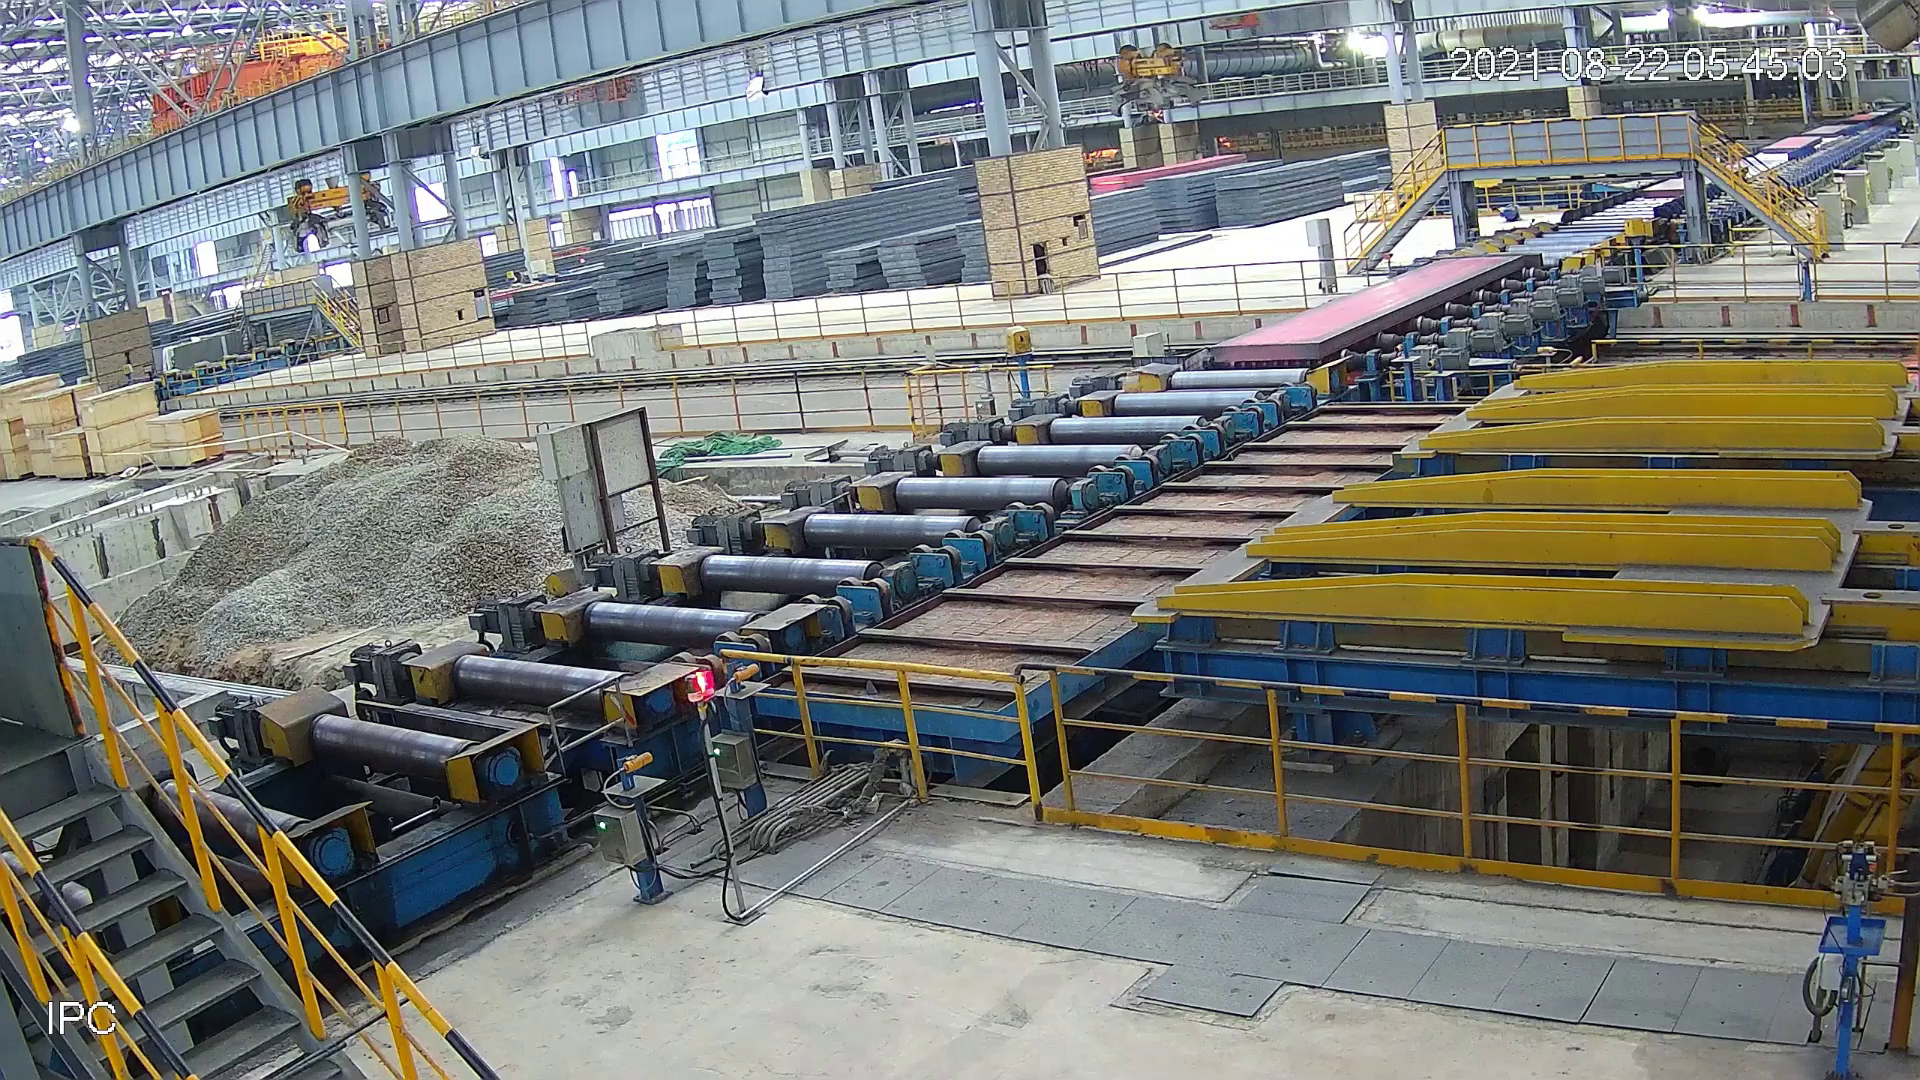crane: (1102, 32, 1213, 128)
slab: (1203, 243, 1528, 376)
